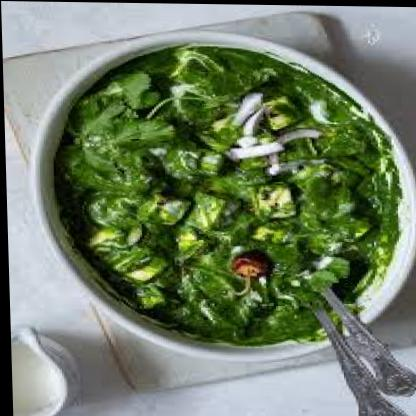palak_paneer: (46, 43, 403, 347)
